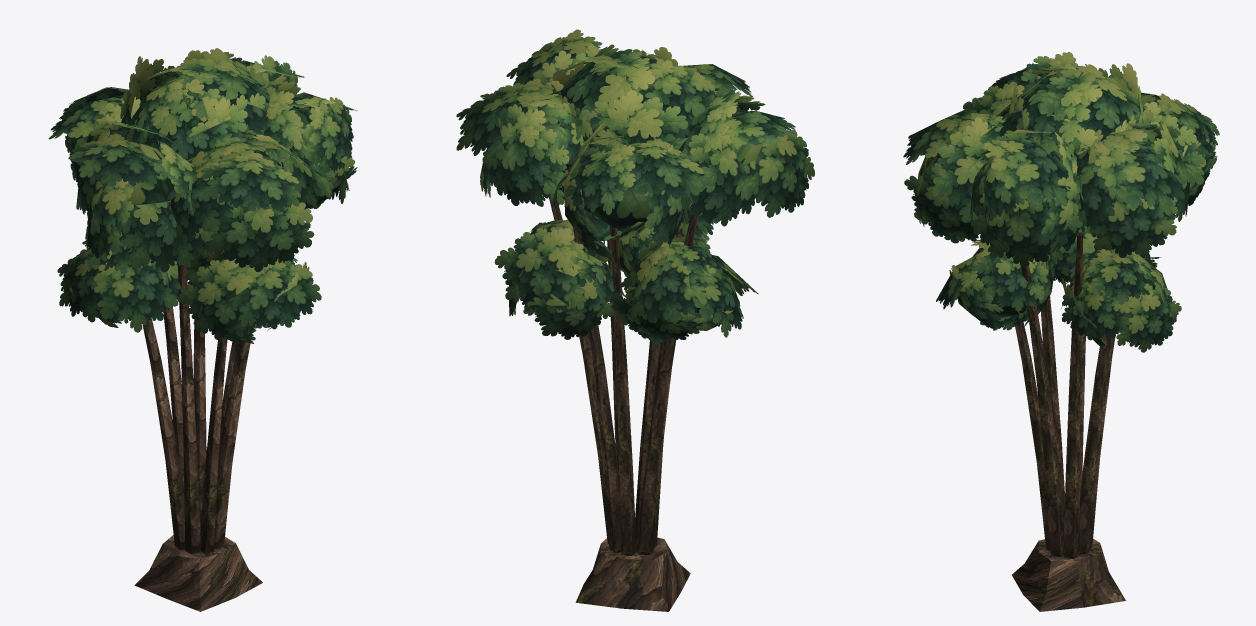
File: tree_hazel.glb
The picture shows the model from 3 angles, left to right: view 1: azimuth 30°, elevation 25°; view 2: azimuth 150°, elevation 25°; view 3: azimuth 270°, elevation 25°; orthographic projection. The views are drawn at different scales.
Parts seen in each view (by area): view 1: tree_hazel; view 2: tree_hazel; view 3: tree_hazel.
Part boxes in pixels (x1,y1,x2,y2): tree_hazel: [49, 48, 357, 611]; tree_hazel: [456, 29, 814, 611]; tree_hazel: [903, 52, 1219, 611].
Size of the model in its own units: 2.96 by 4.67 by 2.88.
2 materials, 2 textured.
